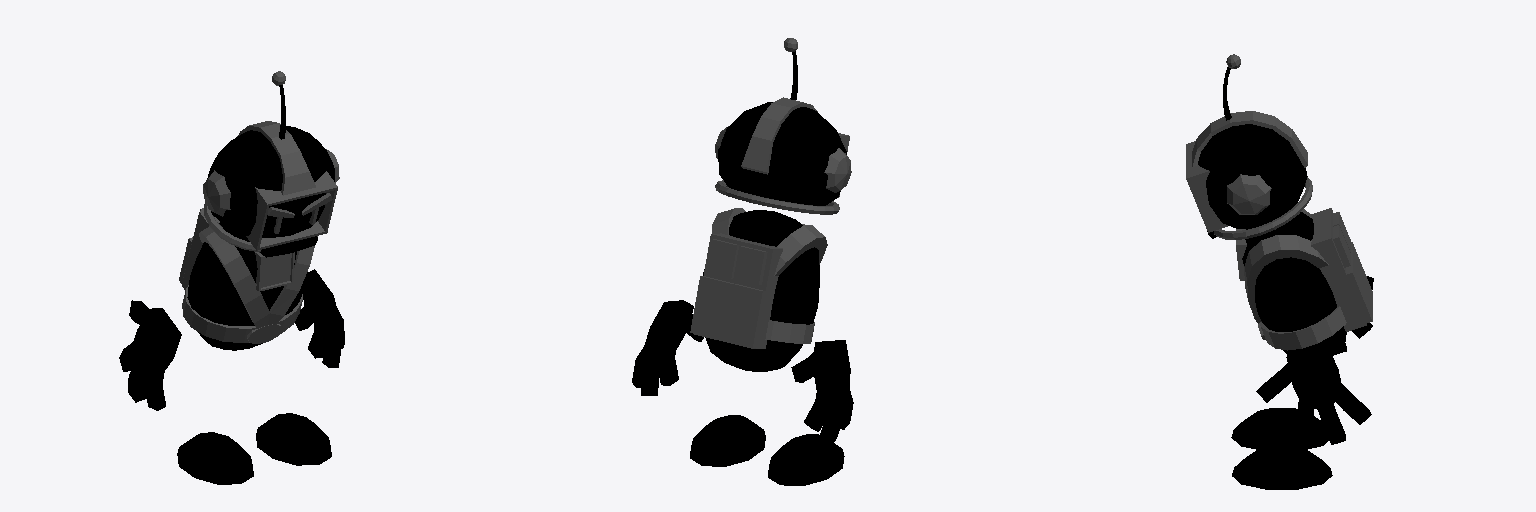
File: bomberman_000005.obj
The picture shows the model from 3 angles: view 1: azimuth 30°, elevation 25°; view 2: azimuth 150°, elevation 25°; view 3: azimuth 270°, elevation 25°; orthographic projection.
Parts seen in each view (by area): view 1: BM_Head.002_Mesh.005, BM_BODY.002_Mesh.009, BM_Head.001_Mesh.004, BM_BODY.001_Mesh.008, R_Hand_Mesh.003, R_Foot_Mesh.001, L_Foot_Mesh, L_Hand_Mesh.002; view 2: BM_BODY.002_Mesh.009, BM_Head.002_Mesh.005, BM_BODY.001_Mesh.008, BM_Head.001_Mesh.004, R_Hand_Mesh.003, L_Hand_Mesh.002, L_Foot_Mesh, R_Foot_Mesh.001; view 3: BM_BODY.002_Mesh.009, BM_Head.002_Mesh.005, BM_BODY.001_Mesh.008, BM_Head.001_Mesh.004, L_Hand_Mesh.002, L_Foot_Mesh, R_Foot_Mesh.001.
Part boxes in pixels (x1,y1,x2,y2): BM_Head.002_Mesh.005: (207, 126, 334, 257); BM_BODY.002_Mesh.009: (179, 208, 314, 343); BM_Head.001_Mesh.004: (203, 121, 339, 252); BM_BODY.001_Mesh.008: (187, 222, 306, 350); R_Hand_Mesh.003: (119, 300, 181, 410); R_Foot_Mesh.001: (177, 432, 253, 484); L_Foot_Mesh: (256, 413, 331, 465); L_Hand_Mesh.002: (295, 269, 344, 367); BM_BODY.002_Mesh.009: (690, 208, 827, 348); BM_Head.002_Mesh.005: (718, 102, 846, 205); BM_BODY.001_Mesh.008: (703, 210, 819, 371); BM_Head.001_Mesh.004: (715, 97, 851, 214); R_Hand_Mesh.003: (791, 340, 853, 441); L_Hand_Mesh.002: (632, 300, 703, 395); L_Foot_Mesh: (690, 415, 765, 466); R_Foot_Mesh.001: (768, 434, 844, 485); BM_BODY.002_Mesh.009: (1236, 208, 1372, 350); BM_Head.002_Mesh.005: (1198, 124, 1307, 238); BM_BODY.001_Mesh.008: (1242, 212, 1346, 355); BM_Head.001_Mesh.004: (1186, 111, 1312, 239); L_Hand_Mesh.002: (1256, 343, 1371, 444); L_Foot_Mesh: (1232, 446, 1332, 489); R_Foot_Mesh.001: (1231, 408, 1328, 449).
Bounding box in the file's own units: 3.94 × 7.72 × 3.27.